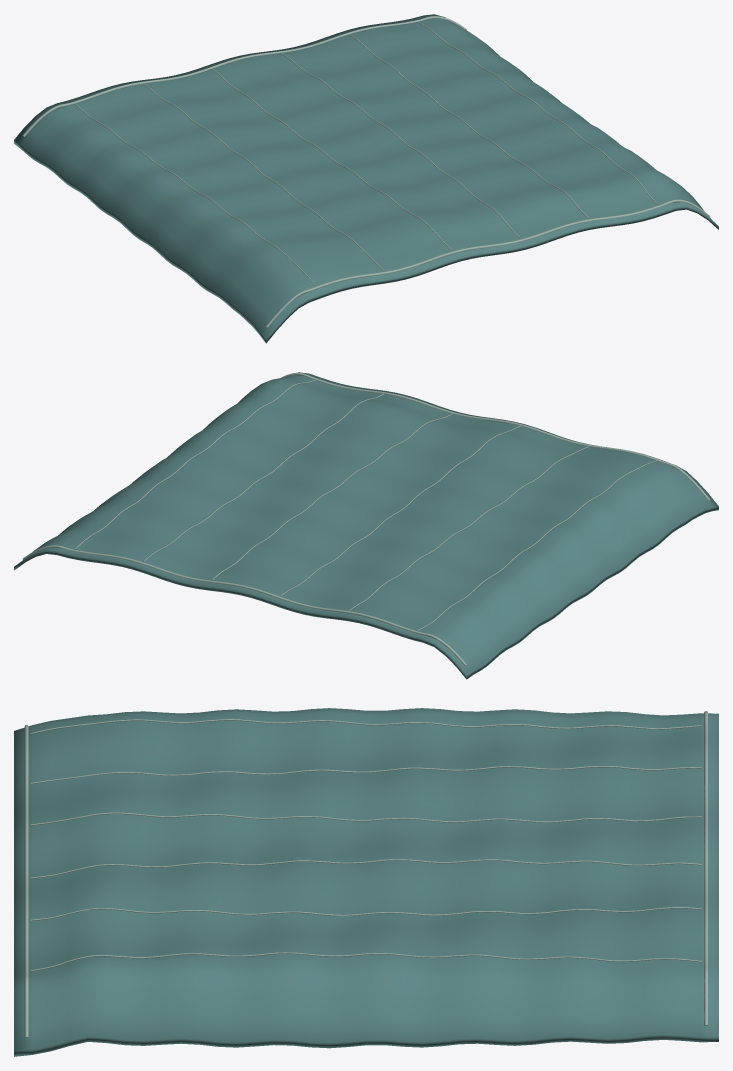
File: bed-quilt-160.glb
3 views of the same model, one above another, from view 1: azimuth 30°, elevation 25°; view 2: azimuth 150°, elevation 25°; view 3: azimuth 270°, elevation 25° (orthographic). The views are drawn at different scales.
Visible parts, largest first — view 1: bed-quilt-160 / 16 / ocean woven cloth, bed-quilt-160 / 19 / pale textile piping; view 2: bed-quilt-160 / 16 / ocean woven cloth, bed-quilt-160 / 19 / pale textile piping; view 3: bed-quilt-160 / 16 / ocean woven cloth, bed-quilt-160 / 19 / pale textile piping.
Boxes of the visible parts, x1=… form: bed-quilt-160 / 16 / ocean woven cloth: x1=14, y1=14, x2=718, y2=343; bed-quilt-160 / 19 / pale textile piping: x1=23, y1=16, x2=710, y2=327; bed-quilt-160 / 16 / ocean woven cloth: x1=14, y1=372, x2=718, y2=679; bed-quilt-160 / 19 / pale textile piping: x1=22, y1=372, x2=709, y2=665; bed-quilt-160 / 16 / ocean woven cloth: x1=14, y1=708, x2=718, y2=1056; bed-quilt-160 / 19 / pale textile piping: x1=24, y1=711, x2=708, y2=1037.
Bounding box in the file's own units: 1.72 × 0.1861 × 1.66.
